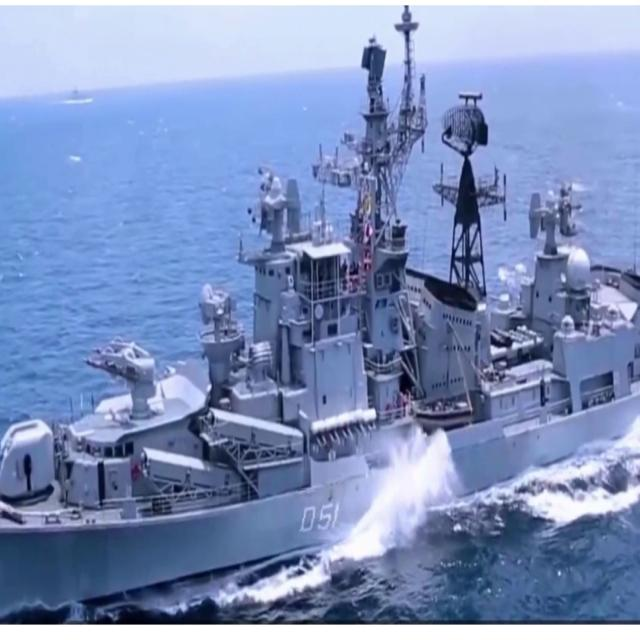OCR: (293, 488, 343, 539)
